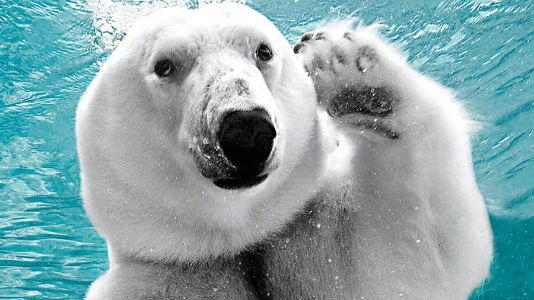bear: (72, 5, 500, 294)
